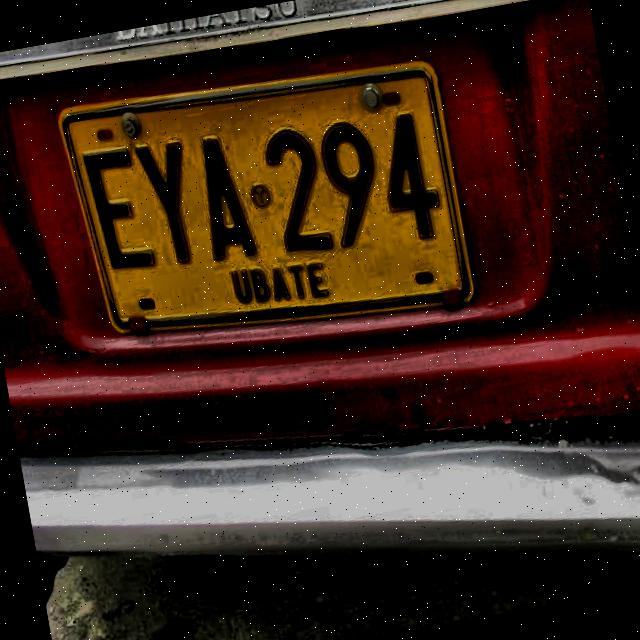2: (257, 117, 338, 257)
4: (373, 102, 451, 248)
9: (312, 116, 387, 256)
A: (195, 126, 268, 266)
E: (80, 141, 160, 273)
Y: (128, 132, 204, 274)
